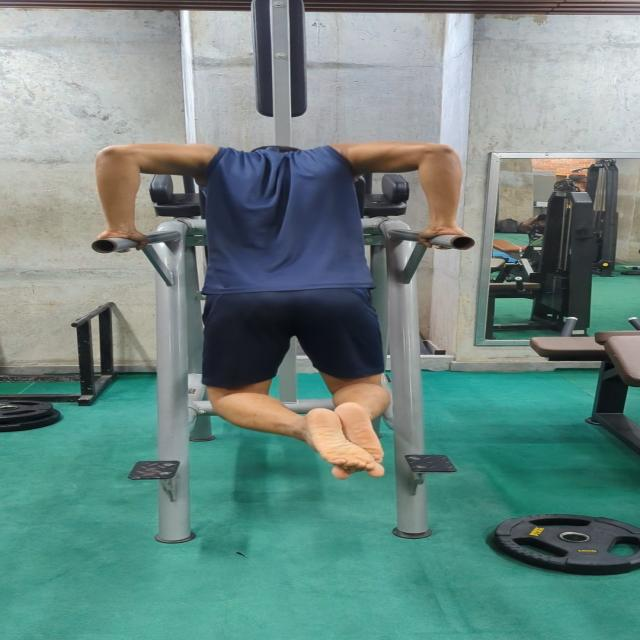Normal_Dips: (83, 125, 510, 480)
